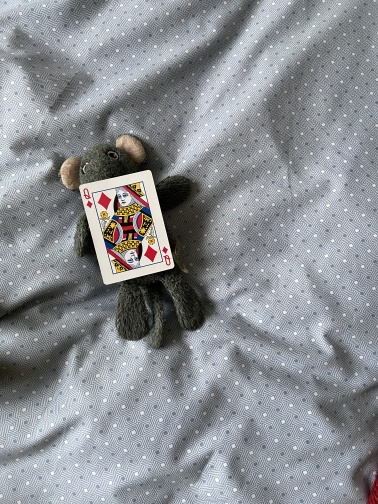queen: (77, 168, 175, 286)
